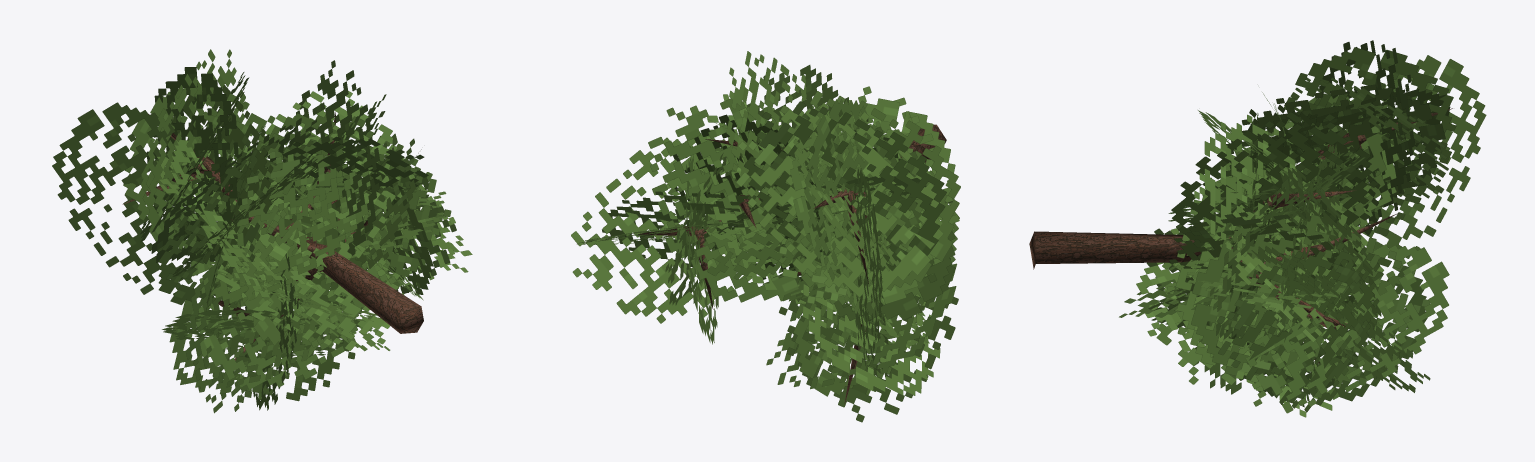
File: Tree1Simplified.fbx
The picture shows the model from 3 angles, left to right: view 1: azimuth 30°, elevation 25°; view 2: azimuth 150°, elevation 25°; view 3: azimuth 270°, elevation 25°; orthographic projection. The views are drawn at different scales.
Parts seen in each view (by area): view 1: Tree1Simplified; view 2: Tree1Simplified; view 3: Tree1Simplified.
Boxes of the visible parts, bbox=[...] form: Tree1Simplified: bbox=[52, 49, 472, 413]; Tree1Simplified: bbox=[571, 51, 960, 422]; Tree1Simplified: bbox=[1029, 40, 1486, 417].
Size of the model in its own units: 1597 by 1541 by 1596.
